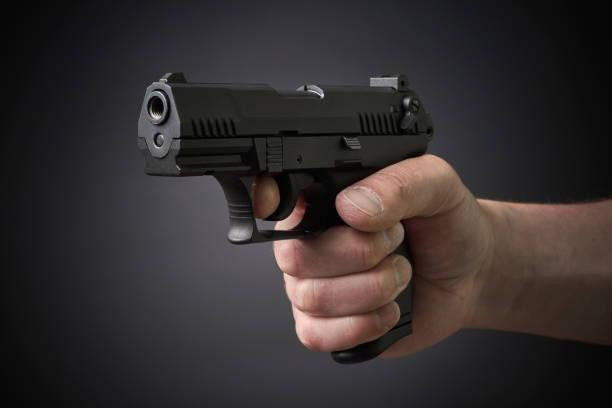weapon: (134, 71, 436, 366)
